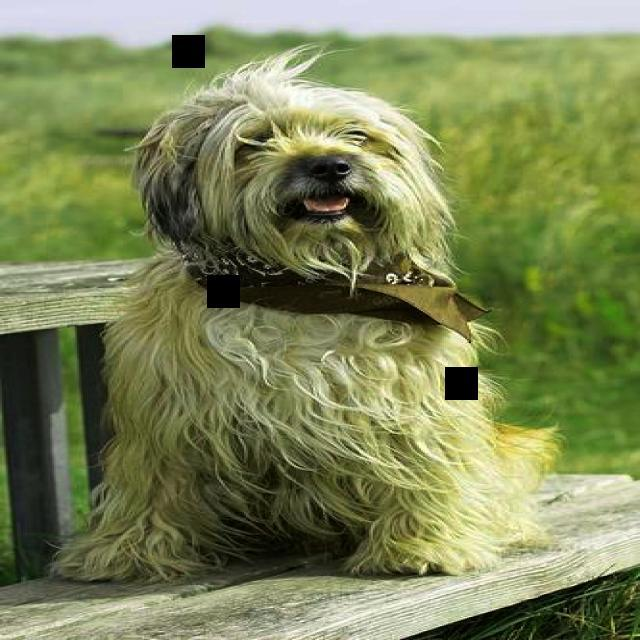adult_dog: (48, 45, 565, 584)
